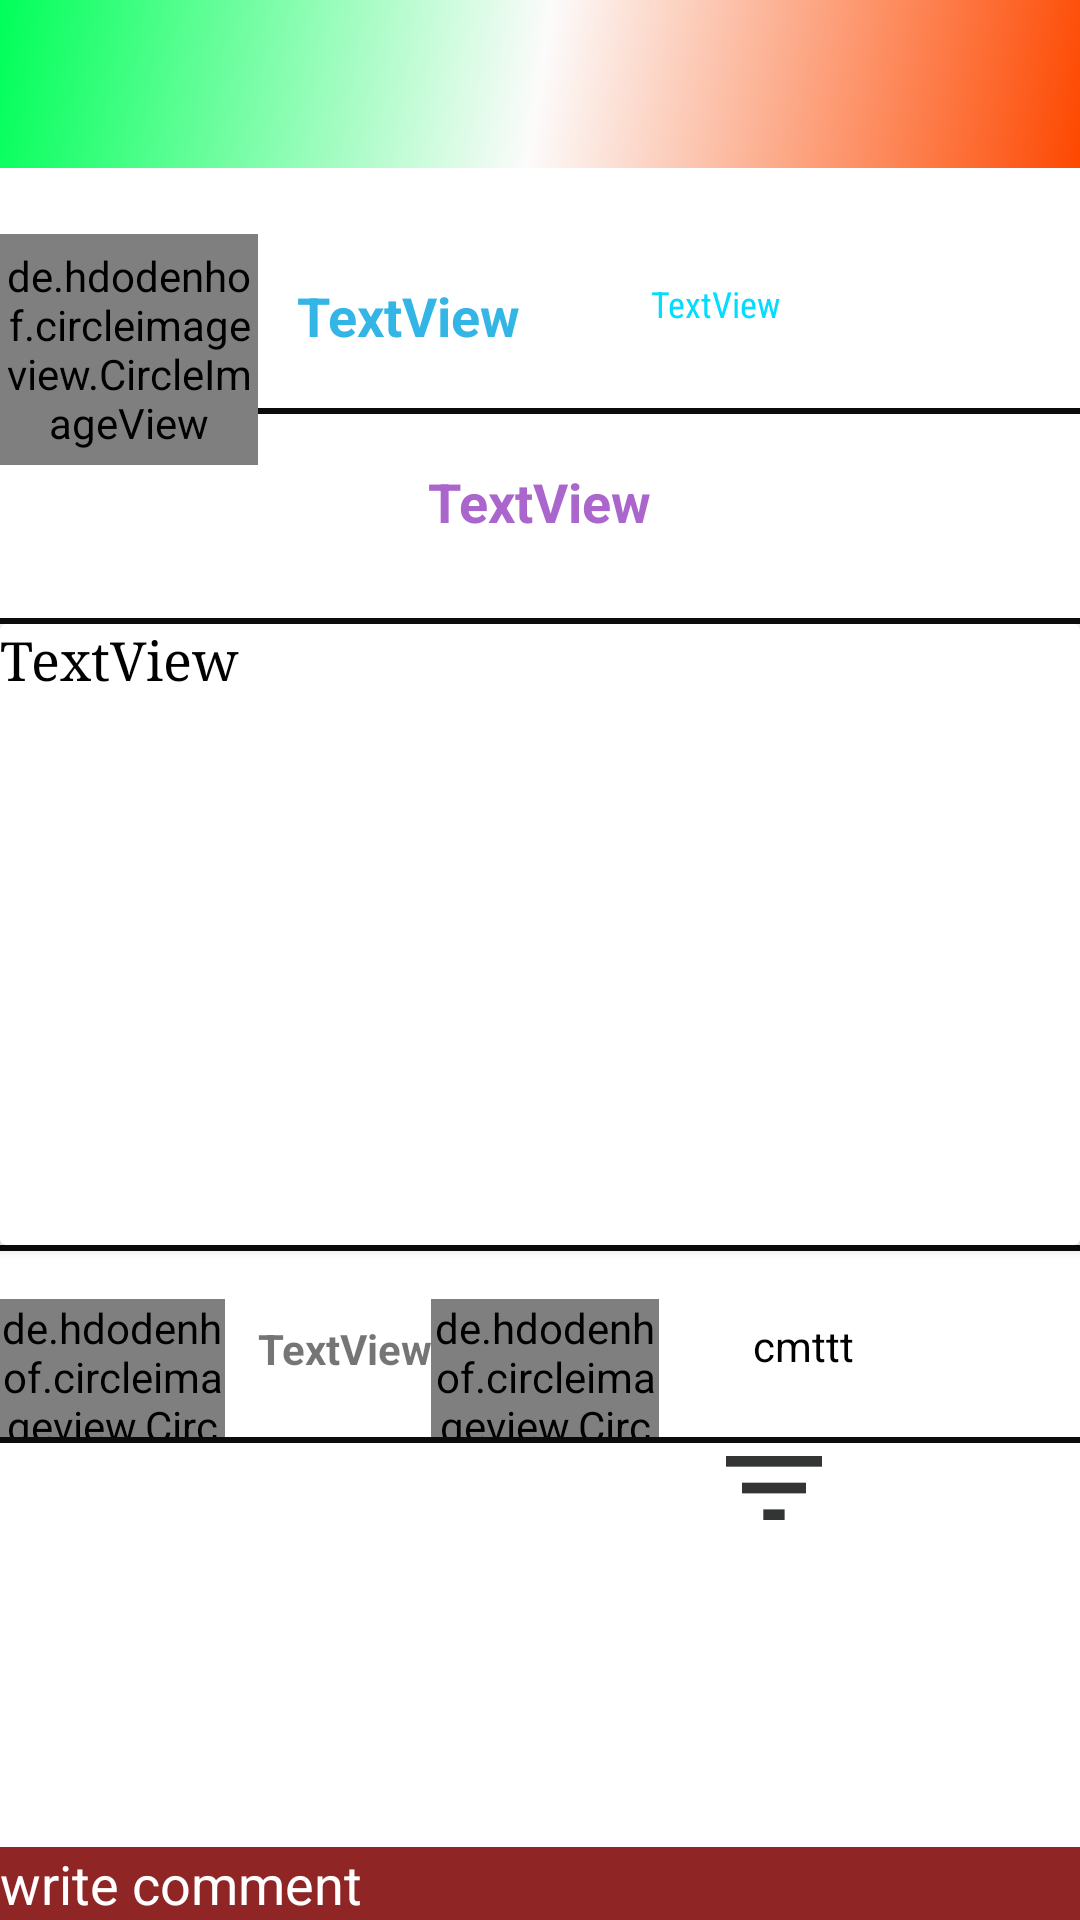

Icons on this 1080*1920 Android screen, each with its box as (x1, y1, x2, y2):
filter: (726, 1456, 822, 1520)
